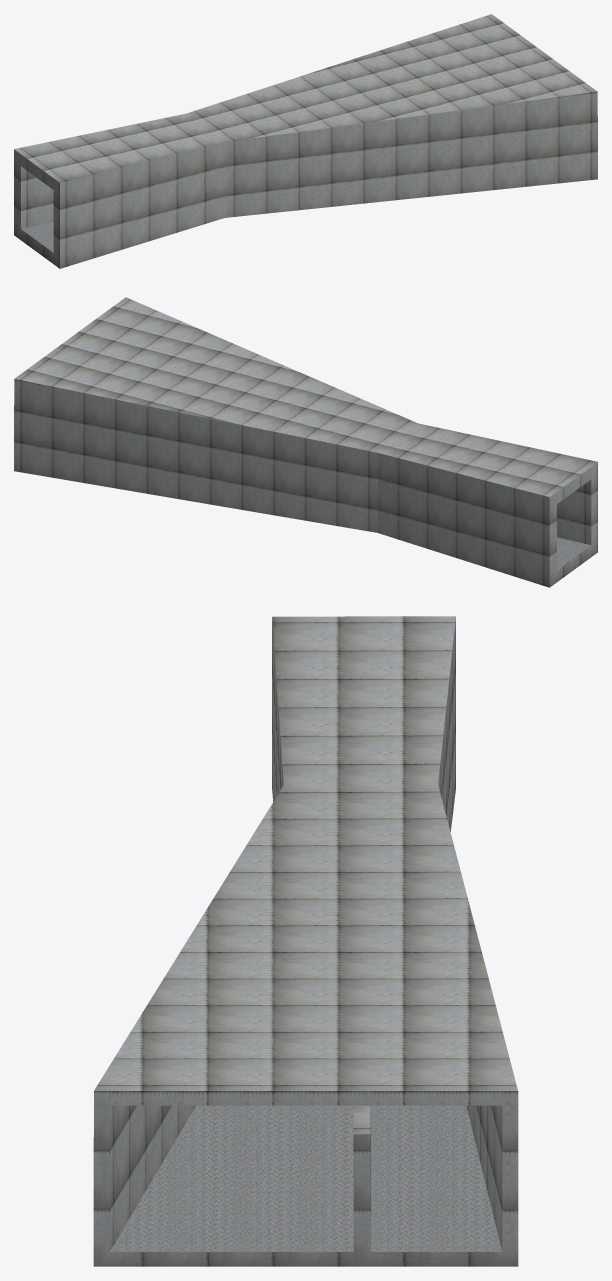
File: cone_tunnel.FBX
3 views of the same model, one above another, from view 1: azimuth 30°, elevation 25°; view 2: azimuth 150°, elevation 25°; view 3: azimuth 270°, elevation 25° (orthographic). The views are drawn at different scales.
Visible parts, largest first — view 1: Cone_Tunnel; view 2: Cone_Tunnel; view 3: Cone_Tunnel.
Part boxes in pixels (left/top/right/bottom): Cone_Tunnel: left=14, top=14, right=597, bottom=268; Cone_Tunnel: left=14, top=297, right=597, bottom=587; Cone_Tunnel: left=93, top=616, right=518, bottom=1266.
Bounding box in the file's own units: 523 × 90.64 × 195.
2 materials, 2 textured.
